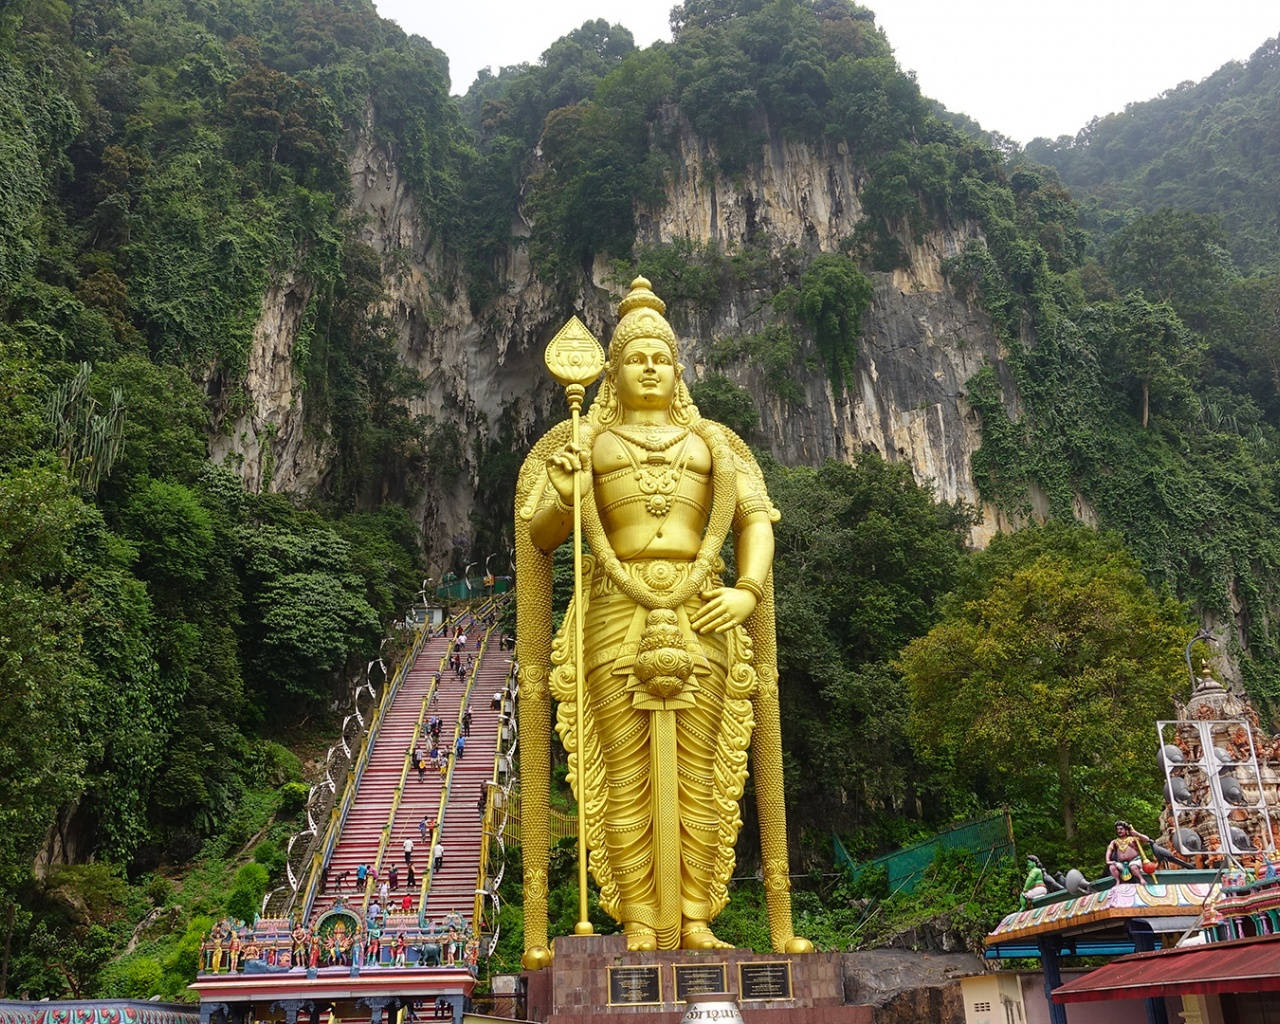Hindu Temple: (498, 266, 802, 954)
